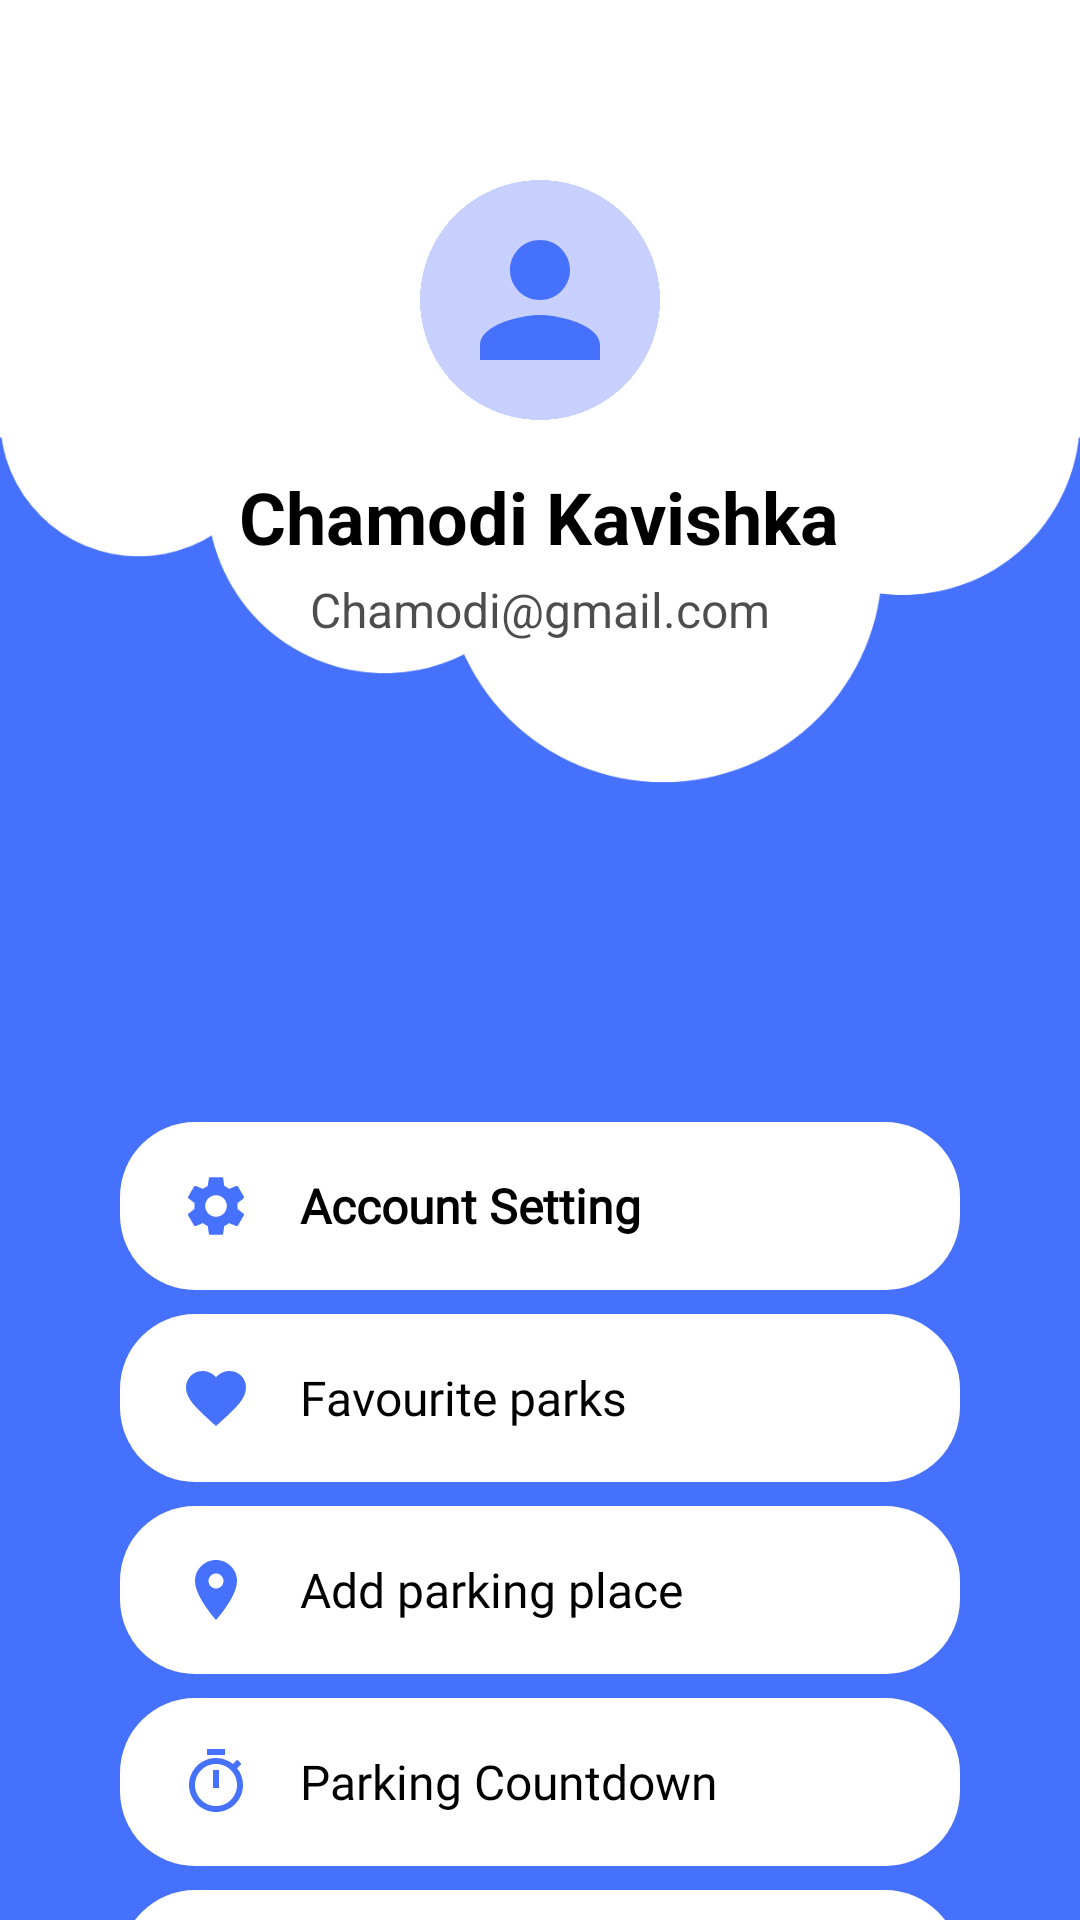

Locate icon controls on the screen. Image size 1080×1920, boxes as (x1, y1, x2, y2).
location: (195, 1560, 237, 1620)
timer: (189, 1749, 243, 1812)
